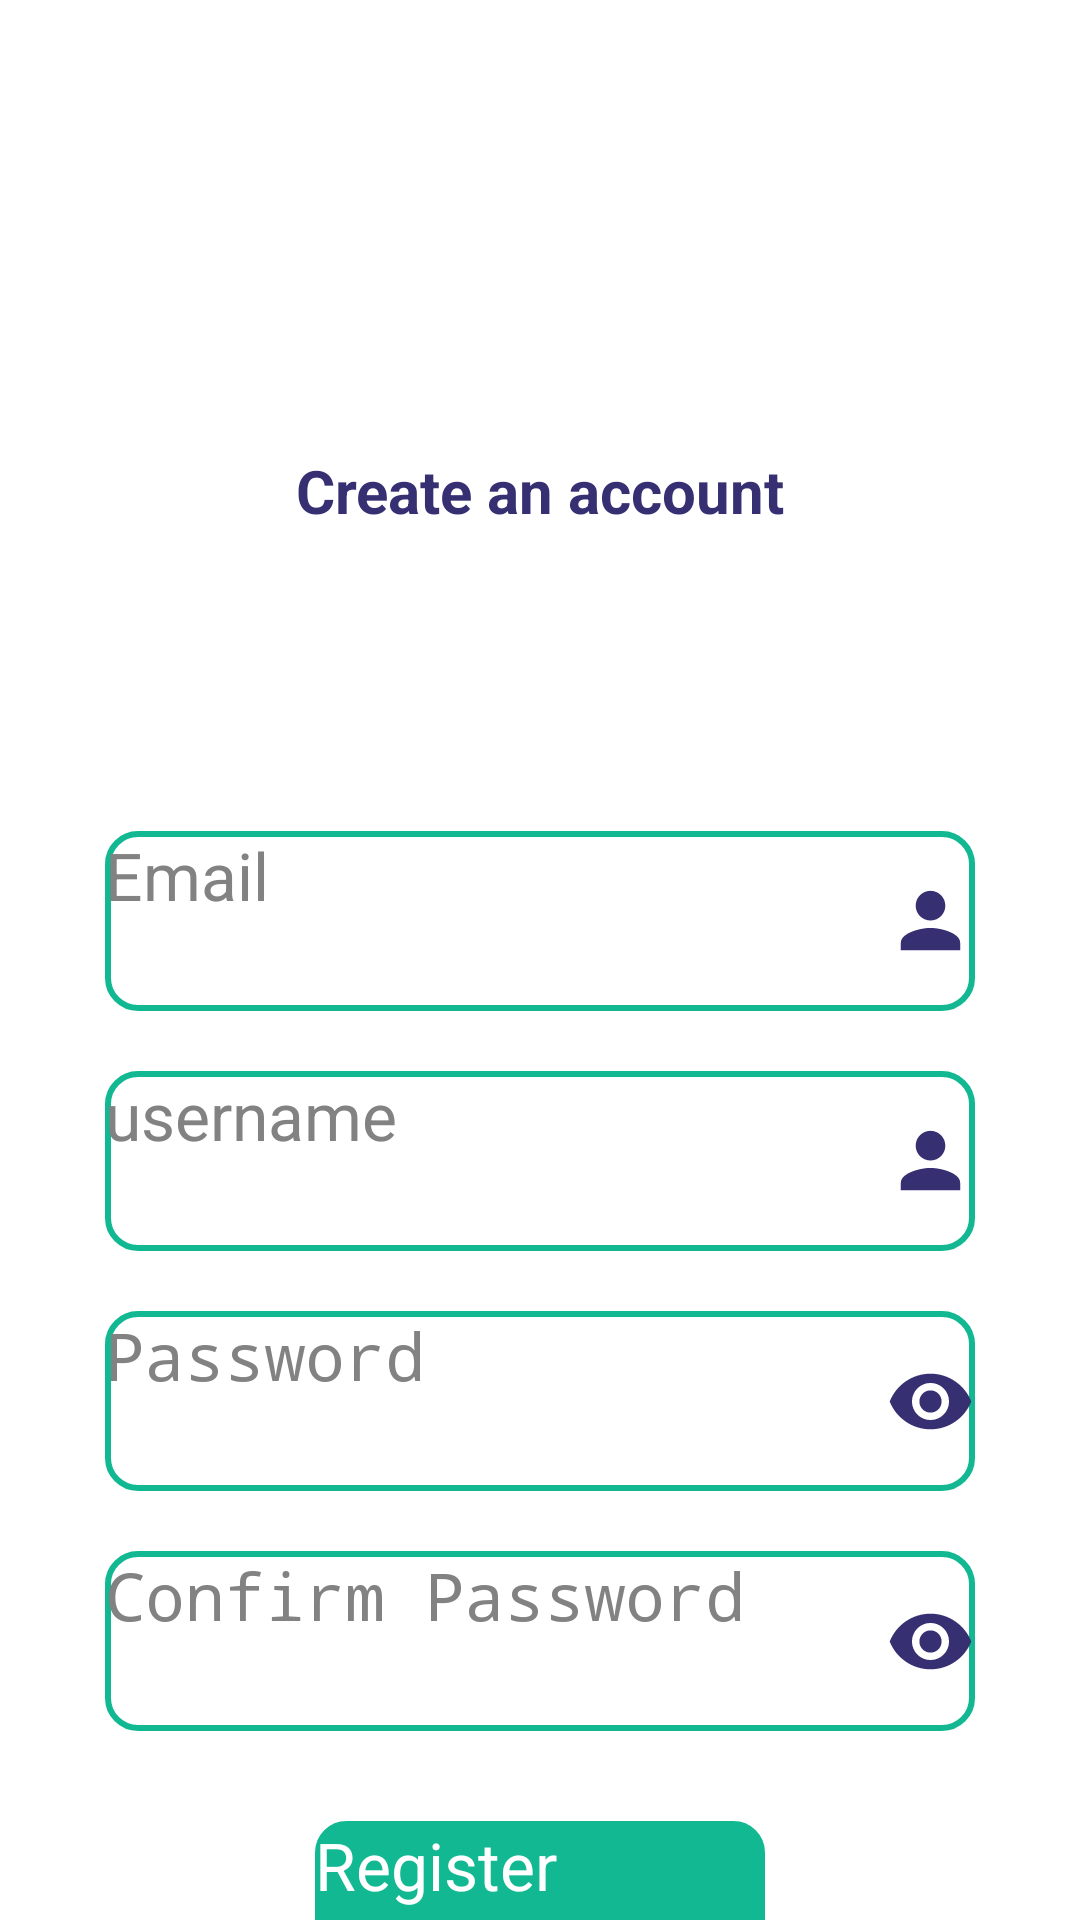

Named icons in this screenshot (1080x1920) and their bounding boxes, [x1=x1, y1=y1, x2=x2, y2=y2]:
visible: [x1=889, y1=1353, x2=975, y2=1449], [x1=889, y1=1593, x2=975, y2=1689]
